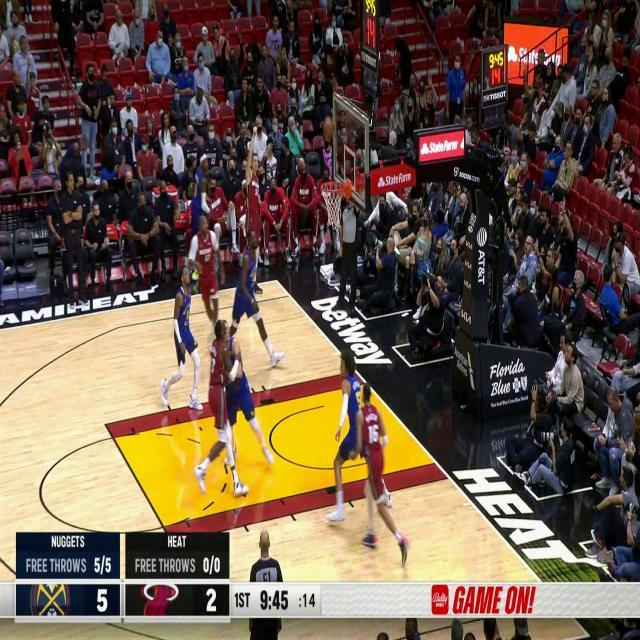rim: (322, 116, 334, 142)
